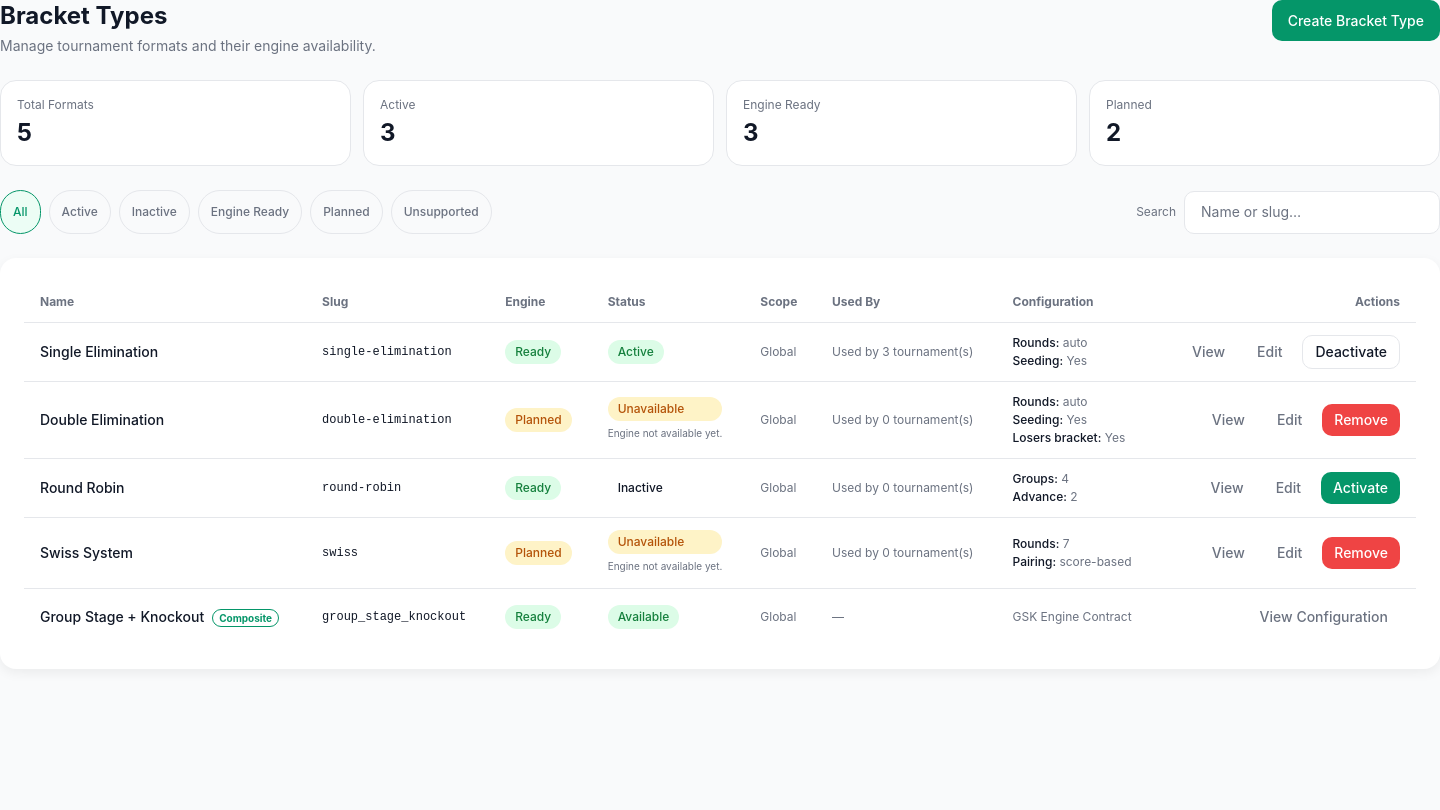
TournamentBracketTypesPage — Step 2A management UI › 12. deactivate requires confirmation and Cancel closes it
Expected: the text "Single Elimination" is shown, [24,322,306,382]
Expected: the row that starts with "Single Elimination" is shown, [24,322,1416,382]
Click the button "Deactivate": click(1351, 352) [1302,335,1400,369]
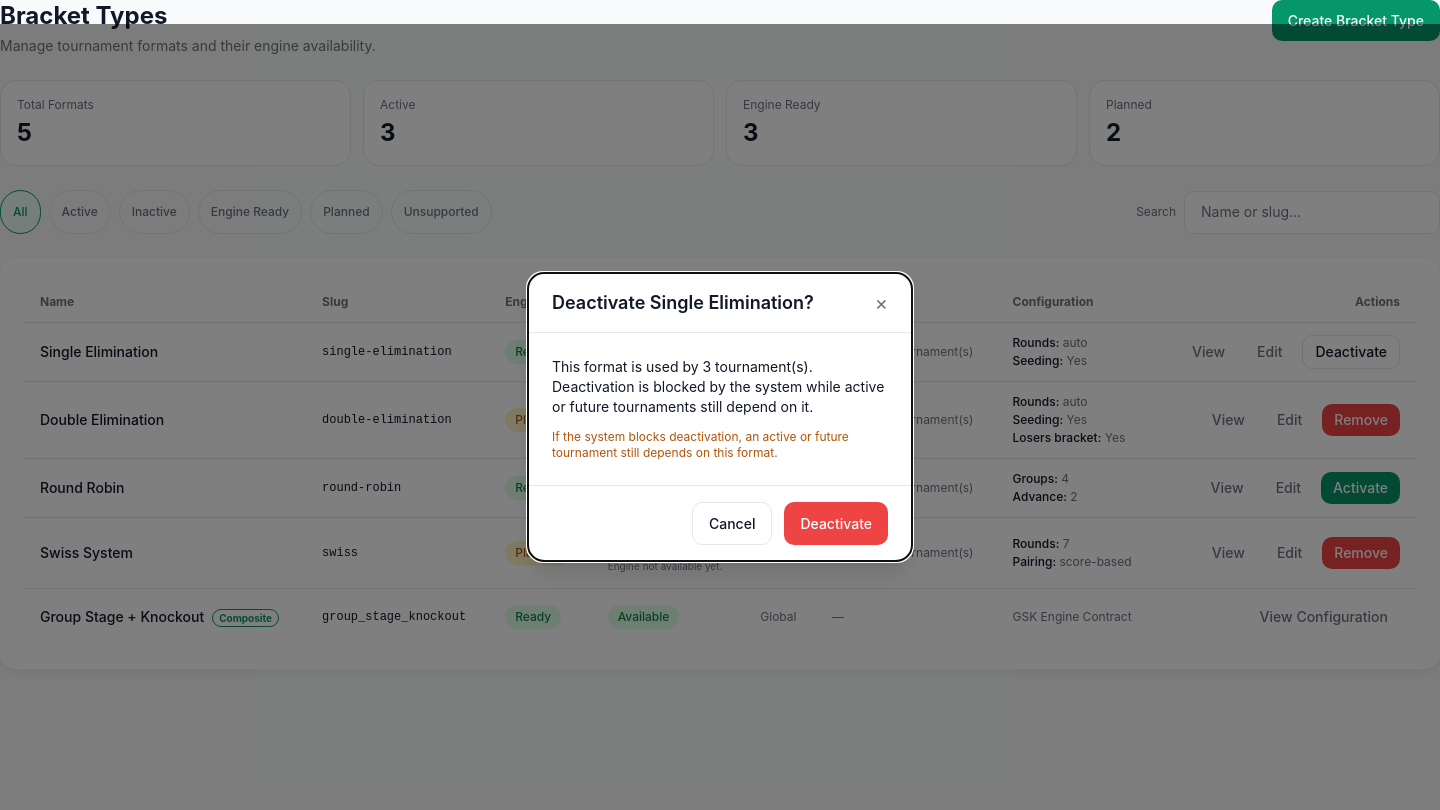
Expected: the heading "Deactivate Single Elimination?" is shown, [552,289,814,316]
Click the button "Cancel": click(732, 524) [692,502,772,545]
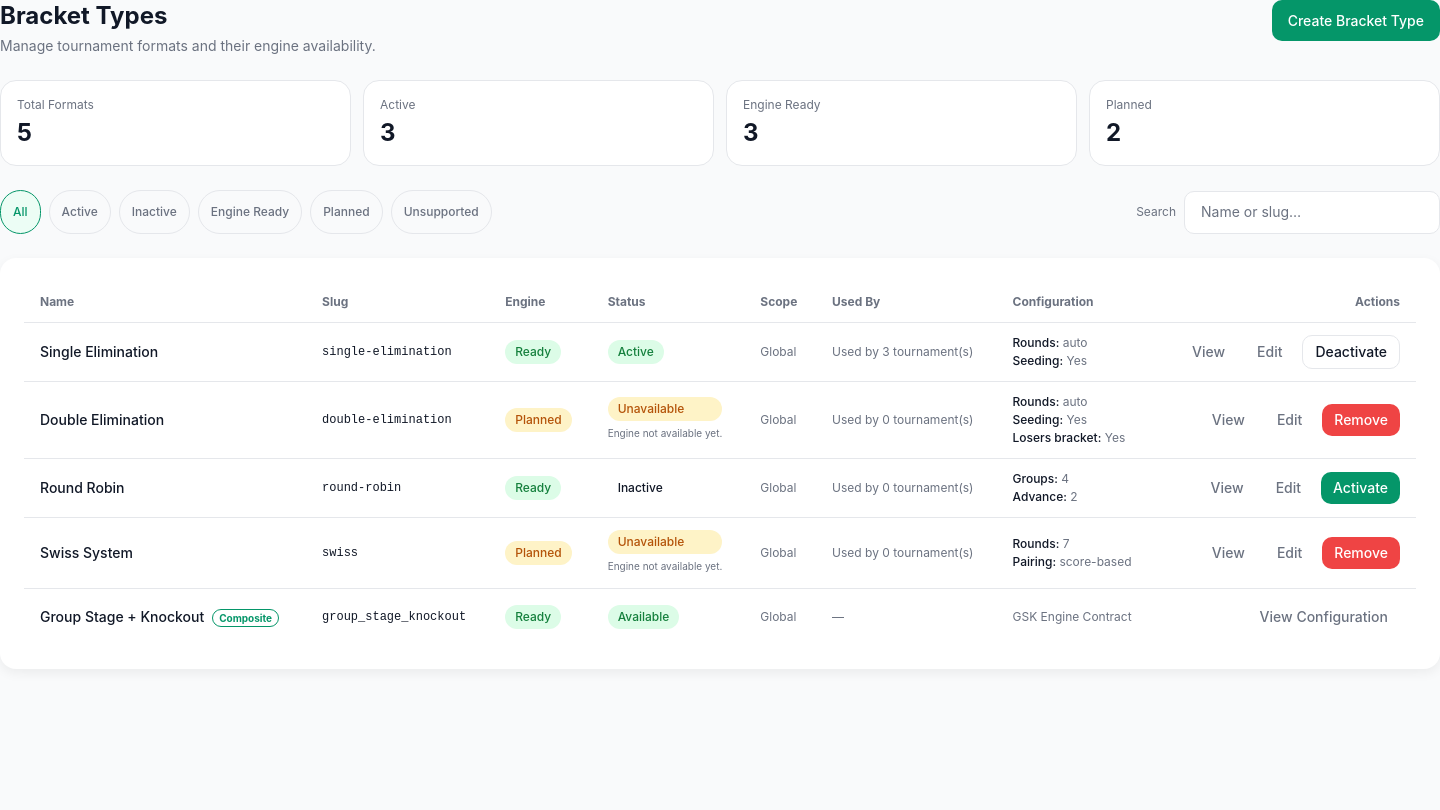
Expected: the dialog is gone
